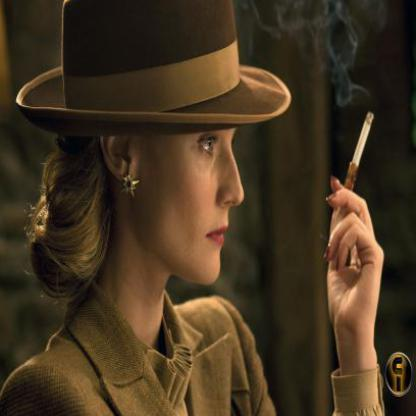cigarette: (349, 110, 375, 167)
person: (26, 0, 268, 415)
smoke: (301, 0, 364, 98)
